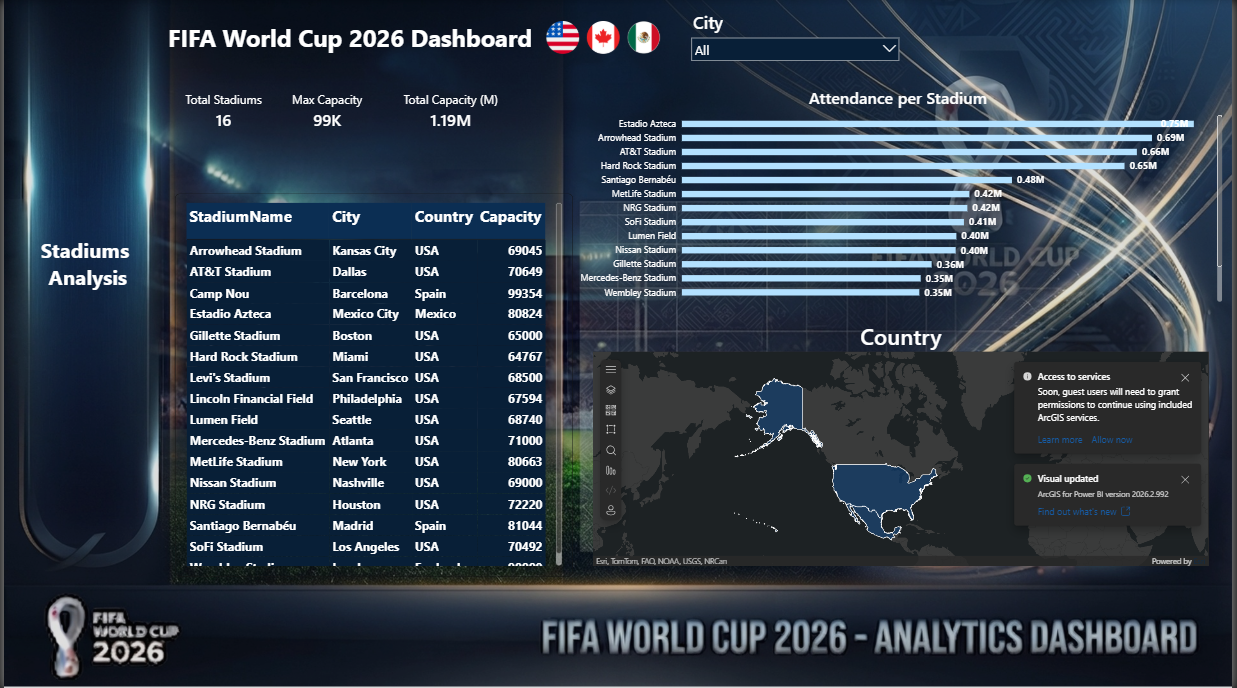

This screenshot's page, from the dashboard's own definition file:
{"tool":"powerbi","page":{"name":"stadium","canvas":[1920,1080],"ordinal":1},"visuals":[{"type":"textbox","box":[30.5,368.1,192.2,119.6],"z":0},{"type":"cardVisual","fields":{"Data":["Dax.Total Stadiums"]},"box":[267.3,128.9,152.4,89.1],"z":1000},{"type":"cardVisual","fields":{"Data":["Dax.Max Capacity"]},"box":[419.7,128.9,171.1,89.1],"z":2000},{"type":"cardVisual","fields":{"Data":["Dax.Total Capacity"]},"box":[579.2,129.5,238.5,88.6],"z":3000},{"type":"esriVisual","fields":{"Location":["3_Stadiums.Country"]},"box":[905.2,488.5,994,412.4],"z":4000},{"type":"barChart","title":"Attendance per Stadium","fields":{"Category":["3_Stadiums.StadiumName"],"Y":["Dax.Attendance by Stage"]},"box":[874.5,121.9,1045.6,365.7],"z":5000},{"type":"tableEx","fields":{"Values":["3_Stadiums.StadiumName","3_Stadiums.City","3_Stadiums.Country","3_Stadiums.Capacity"]},"box":[266.5,302.4,621.8,598.5],"z":6000},{"type":"textbox","box":[246.2,32.8,595.5,70.3],"z":7000},{"type":"image","box":[841.7,32.8,63.3,51.6],"z":8000},{"type":"image","box":[905,32.8,63.3,51.6],"z":9000},{"type":"image","box":[968.3,32.8,63.3,51.6],"z":10000},{"type":"slicer","fields":{"Values":["3_Stadiums.City"]},"box":[1069.1,16.4,335.3,86.7],"z":11000}]}

Visuals, with their boxes in screenshot pixels (x1, y1, x2, y2), scaled from the page's 1920x1080 canvas onto the 1237x688 screenshot:
textbox: (left=20, top=234, right=143, bottom=311)
cardVisual - Dax.Total Stadiums: (left=172, top=82, right=270, bottom=139)
cardVisual - Dax.Max Capacity: (left=270, top=82, right=381, bottom=139)
cardVisual - Dax.Total Capacity: (left=373, top=82, right=527, bottom=139)
esriVisual - 3_Stadiums.Country: (left=583, top=311, right=1224, bottom=574)
"Attendance per Stadium" barChart: (left=563, top=78, right=1236, bottom=311)
tableEx - 3_Stadiums.StadiumName x 3_Stadiums.City: (left=172, top=193, right=572, bottom=574)
textbox: (left=159, top=21, right=542, bottom=66)
image: (left=542, top=21, right=583, bottom=54)
image: (left=583, top=21, right=624, bottom=54)
image: (left=624, top=21, right=665, bottom=54)
slicer - 3_Stadiums.City: (left=689, top=10, right=905, bottom=66)
